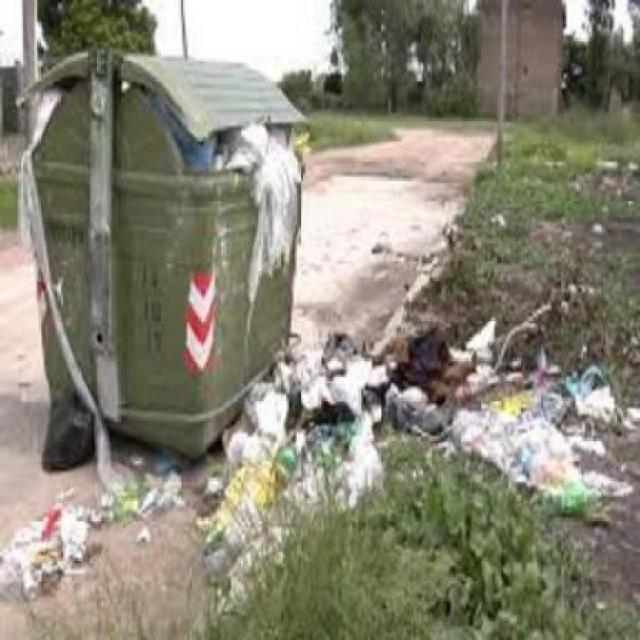garbage: (377, 316, 612, 496), (219, 317, 378, 570), (218, 115, 316, 310)
